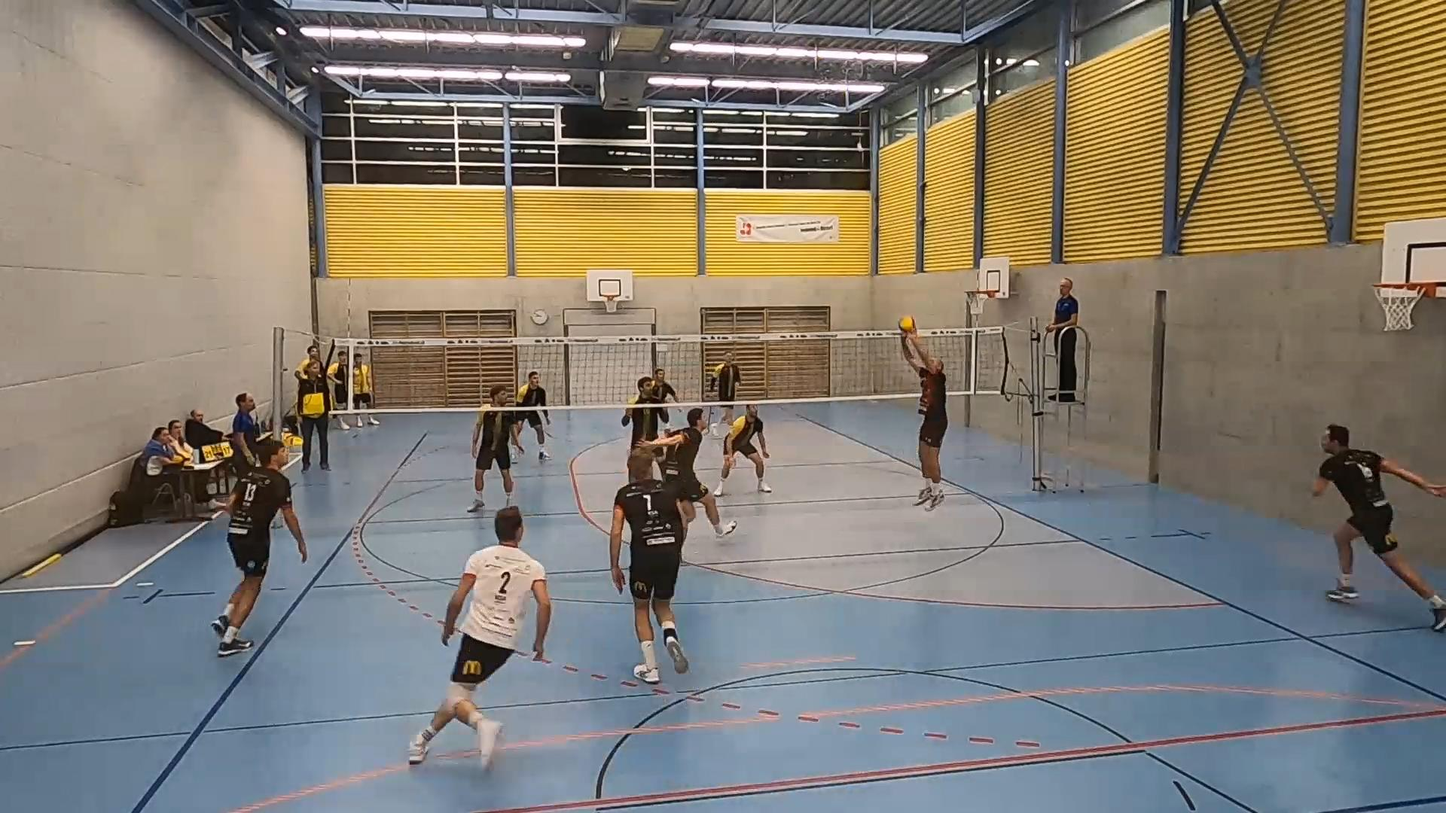Player: (409, 507, 551, 768), (1313, 425, 1445, 631), (212, 439, 307, 656), (609, 447, 688, 684), (645, 408, 736, 537), (468, 385, 520, 512), (715, 404, 771, 496), (517, 371, 550, 460), (708, 351, 740, 437), (621, 376, 659, 448), (652, 367, 677, 403)
Set: (902, 333, 954, 510)
ball: (895, 317, 916, 330)
